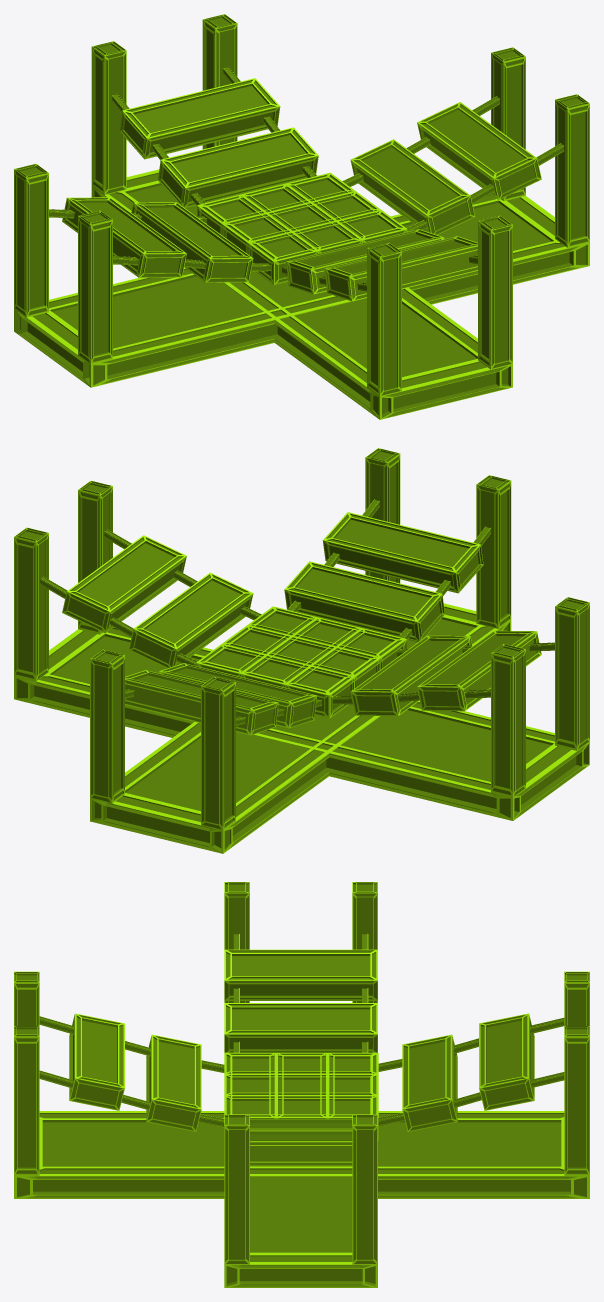
File: JengaBridge.fbx
3 views of the same model, one above another, from view 1: azimuth 30°, elevation 25°; view 2: azimuth 150°, elevation 25°; view 3: azimuth 270°, elevation 25° (orthographic).
Visible parts, largest first — view 1: BridgeBase, SidePlanks, CenterPlank, Ropes; view 2: BridgeBase, SidePlanks, CenterPlank, Ropes; view 3: BridgeBase, SidePlanks, CenterPlank, Ropes.
Boxes of the visible parts, left/top/right/bottom form: BridgeBase: left=14, top=14, right=589, bottom=419; SidePlanks: left=62, top=78, right=541, bottom=301; CenterPlank: left=197, top=172, right=407, bottom=284; Ropes: left=49, top=66, right=564, bottom=291; BridgeBase: left=14, top=448, right=589, bottom=853; SidePlanks: left=62, top=512, right=541, bottom=735; CenterPlank: left=195, top=606, right=406, bottom=718; Ropes: left=40, top=499, right=554, bottom=725; BridgeBase: left=14, top=882, right=589, bottom=1287; SidePlanks: left=69, top=949, right=534, bottom=1166; CenterPlank: left=224, top=1052, right=378, bottom=1140; Ropes: left=39, top=934, right=564, bottom=1127.
Size of the model in its own units: 1125 by 350 by 1125.
